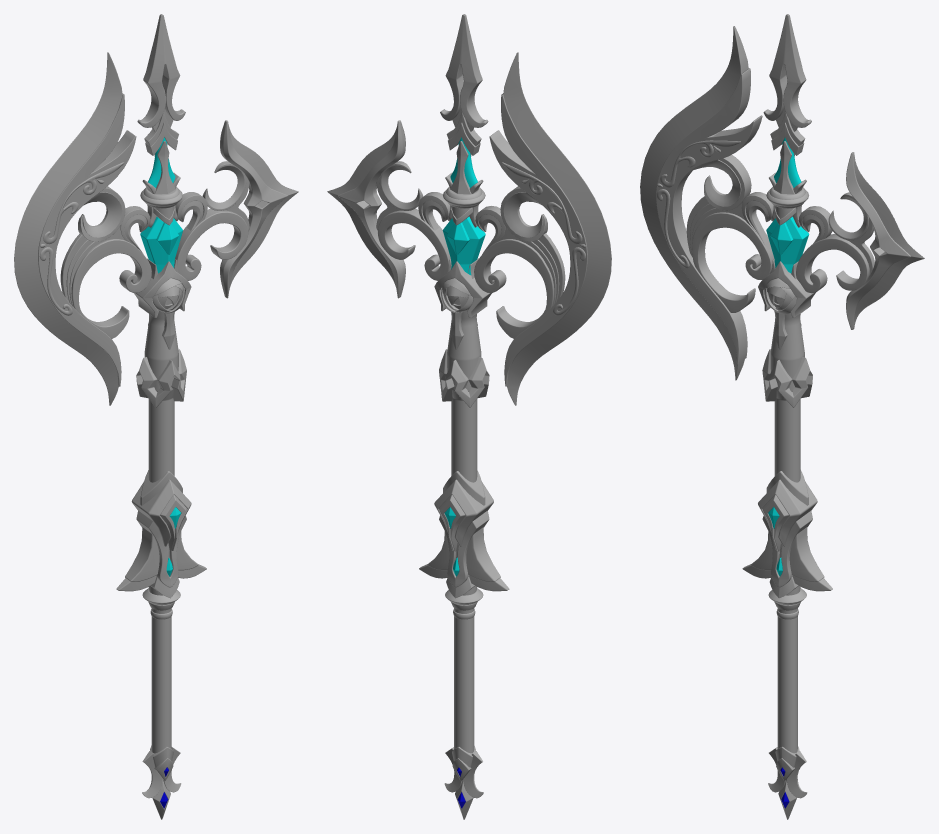
File: Axe 03.fbx
3 views of the same model, side by side, from view 1: azimuth 30°, elevation 25°; view 2: azimuth 150°, elevation 25°; view 3: azimuth 330°, elevation 25° (orthographic).
Visible parts, largest first — view 1: polySurface265, polySurface266; view 2: polySurface265, polySurface266; view 3: polySurface265, polySurface266.
Boxes of the visible parts, x1,y1,x2,y2 form: polySurface265: [14, 14, 298, 819]; polySurface266: [140, 137, 182, 576]; polySurface265: [327, 14, 611, 819]; polySurface266: [442, 137, 485, 576]; polySurface265: [640, 14, 924, 819]; polySurface266: [766, 137, 809, 576].
Size of the model in its own units: 0.061 by 0.1648 by 0.0113.
